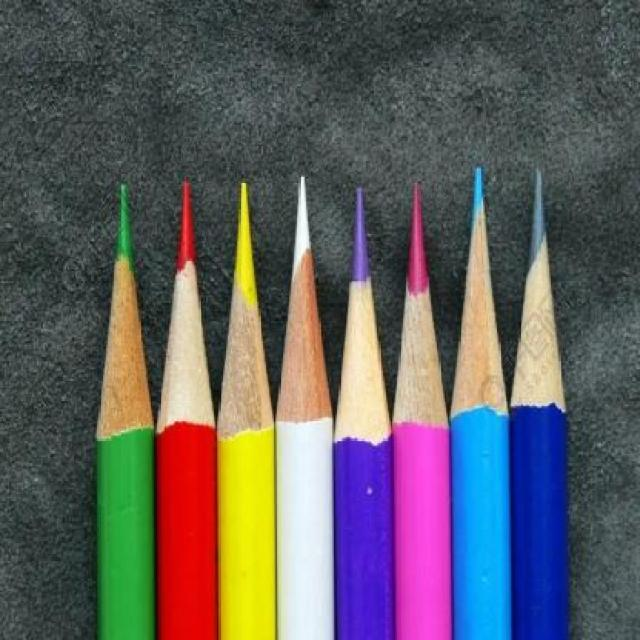pencil: (448, 153, 514, 638), (509, 160, 575, 638), (91, 178, 157, 640), (154, 174, 219, 640), (390, 172, 453, 639), (274, 166, 336, 638), (216, 176, 278, 640), (334, 179, 395, 639)
